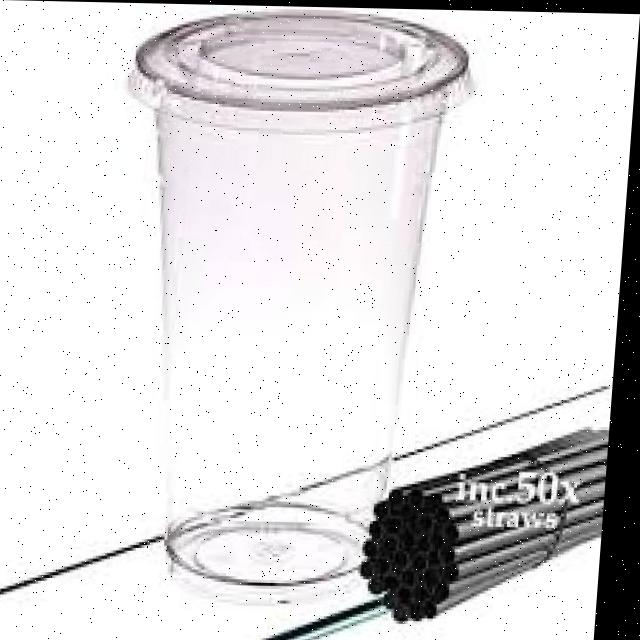cup: (106, 19, 483, 591)
